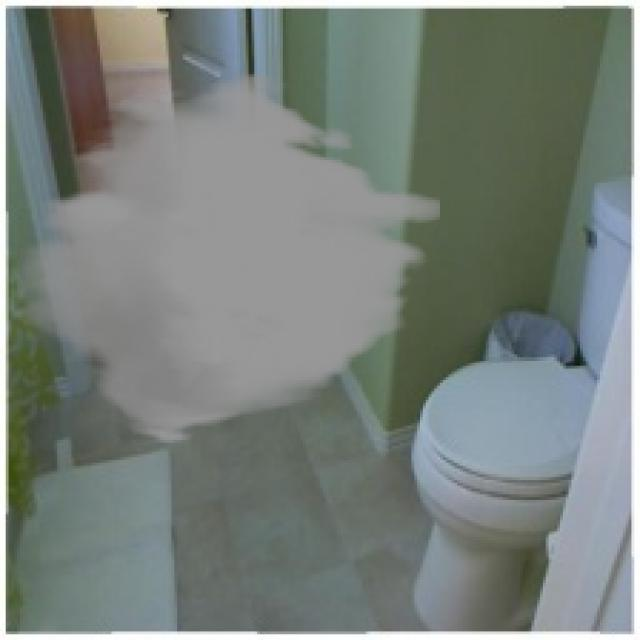smoke: (17, 71, 440, 446)
